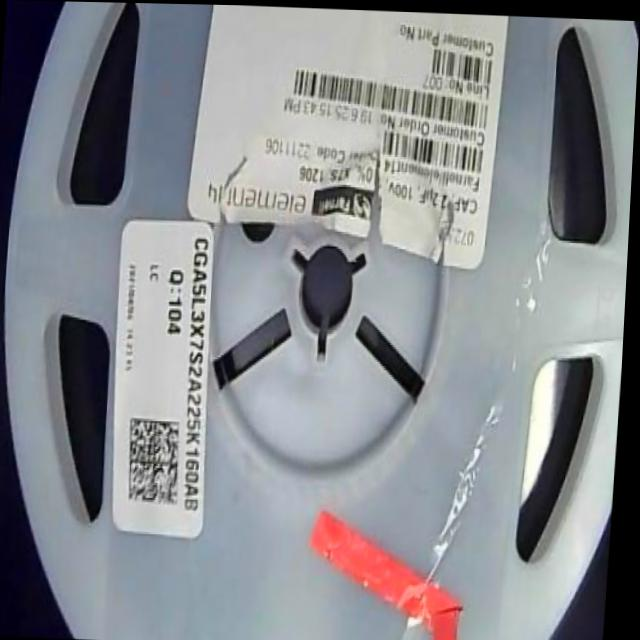datamatrix: (127, 415, 190, 507)
